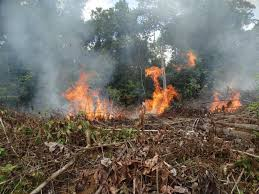fire: (65, 77, 166, 119), (206, 90, 243, 112)
smoke: (11, 5, 132, 81), (178, 8, 258, 81)
